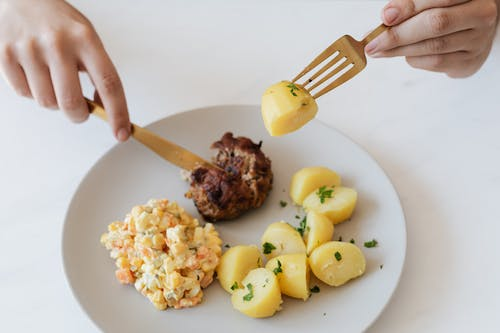knife: (84, 95, 228, 172)
